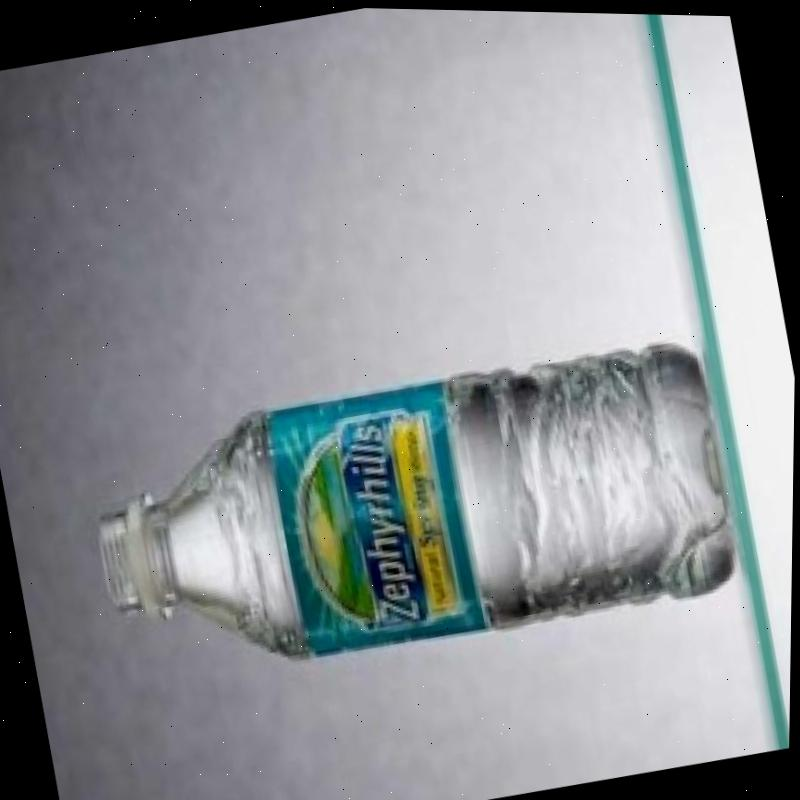botella: (73, 321, 755, 701)
